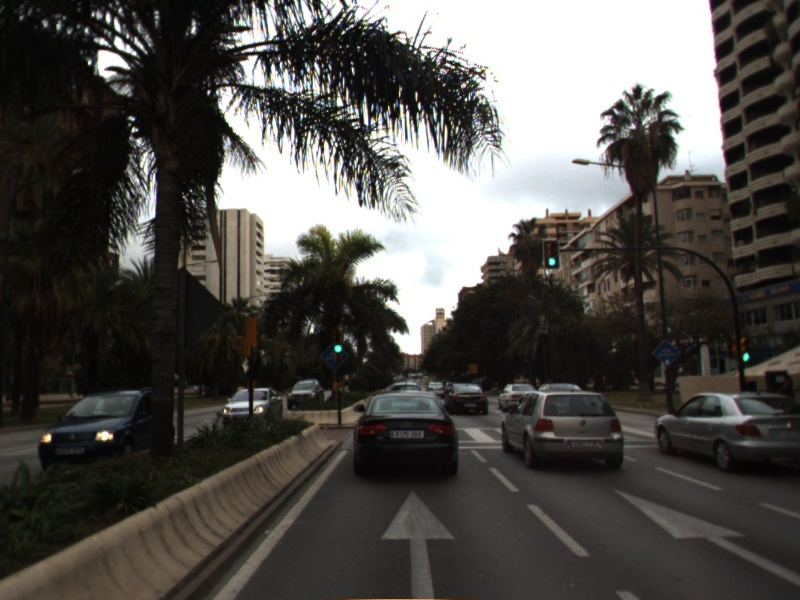STRAIGHT: (611, 486, 800, 585), (378, 486, 459, 600)
